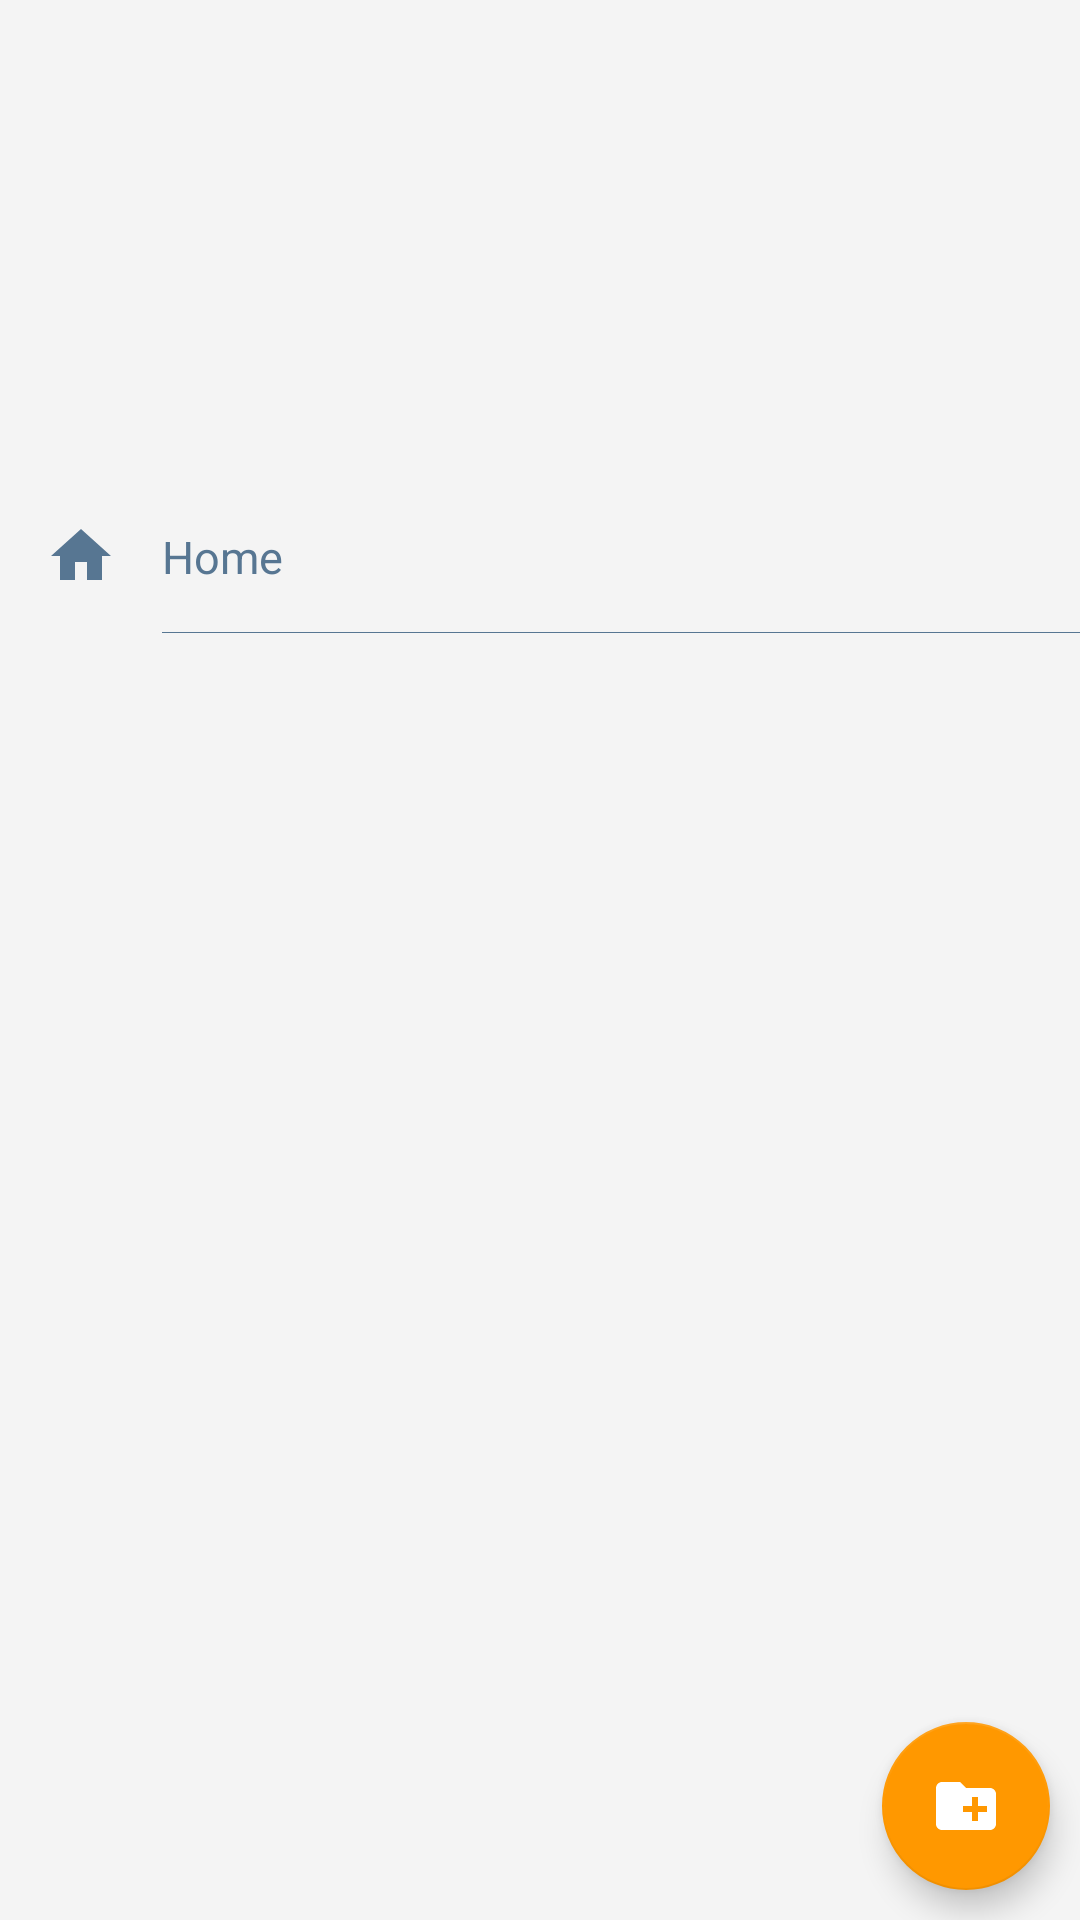

Named icons in this screenshot (1080*1920) and their centers, point (x, y):
add folder: point (966, 1806)
